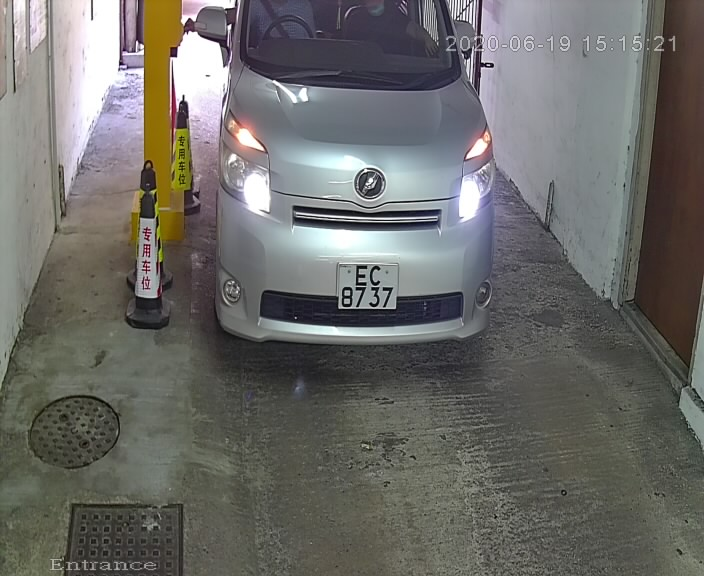privatecar: (200, 3, 504, 356)
